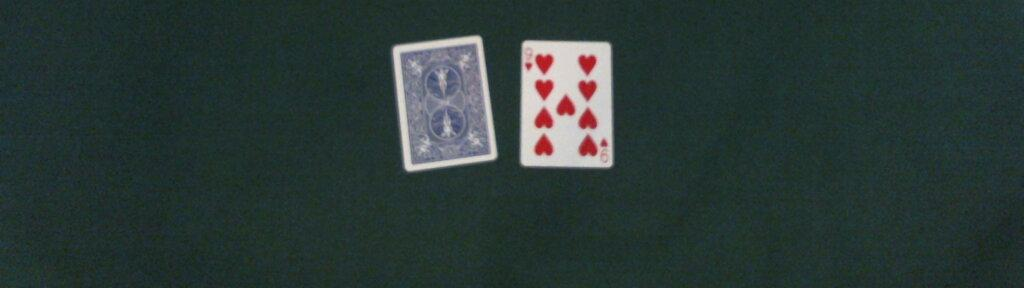back: (392, 36, 498, 173)
nine: (520, 40, 613, 169)
